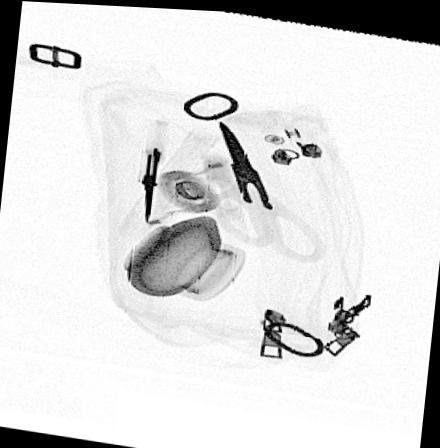Scissors: (202, 115, 333, 265), (138, 115, 170, 226)
